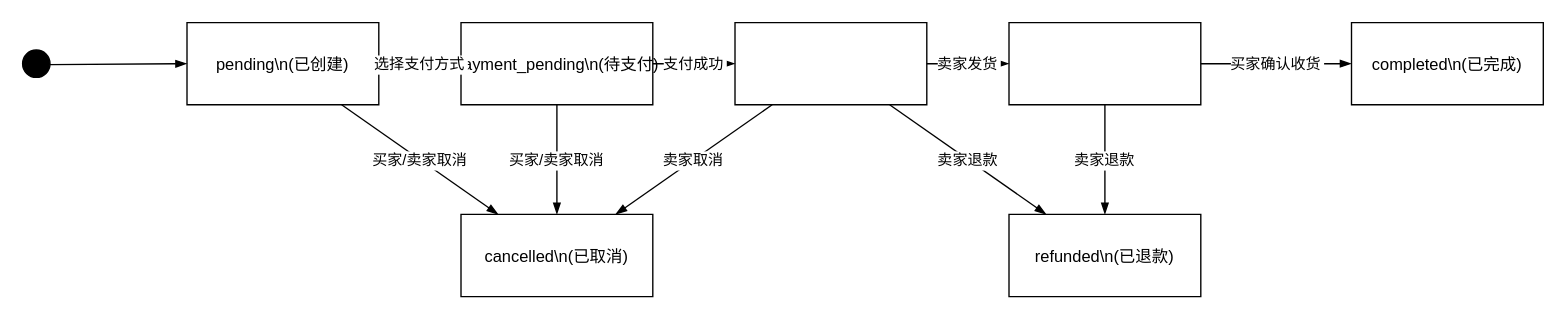
Some shapes in this 1566 by 319 pixel diagram are drawn without their labels. Here are the shapes that lost their labels. From the top down, the centre of each, then its label:
the point at 830,63: paid\n(已支付)
the point at 1104,63: shipping\n(已发货)
